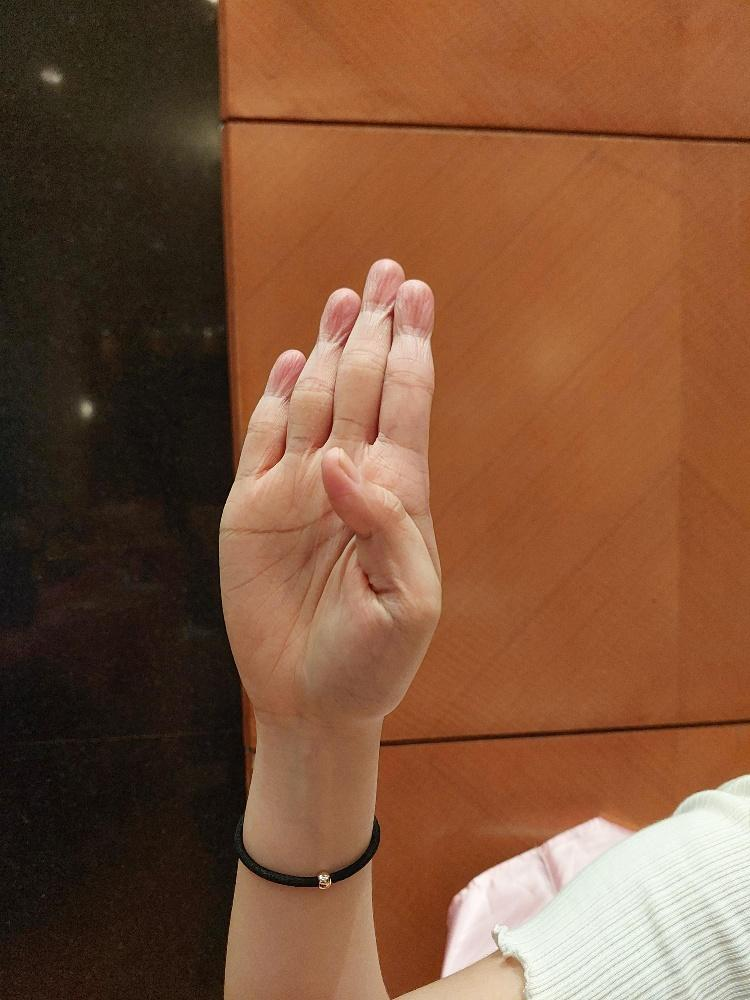b: (215, 256, 445, 727)
